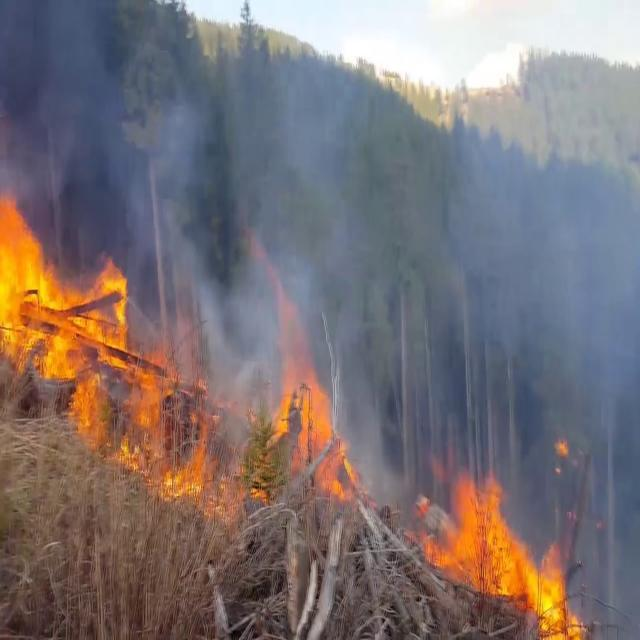Fire: (422, 447, 587, 633), (0, 186, 130, 382), (271, 352, 357, 498), (160, 397, 238, 519)
Smoke: (151, 1, 640, 511)
